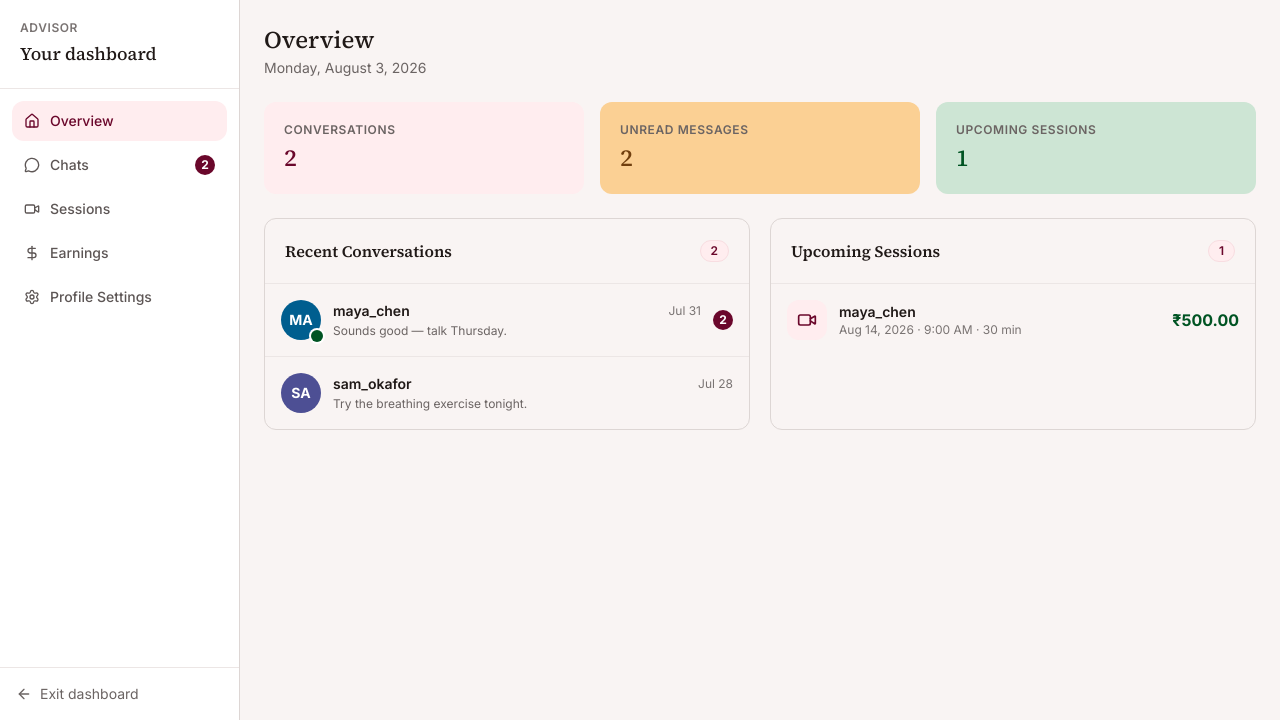
AdvisorDashboardPage › chats tab › explains an empty search result rather than showing a blank card
The image size is (1280, 720).
Click the button "Chats 2" at (120,165), box x1=12 y1=145 x2=227 y2=185
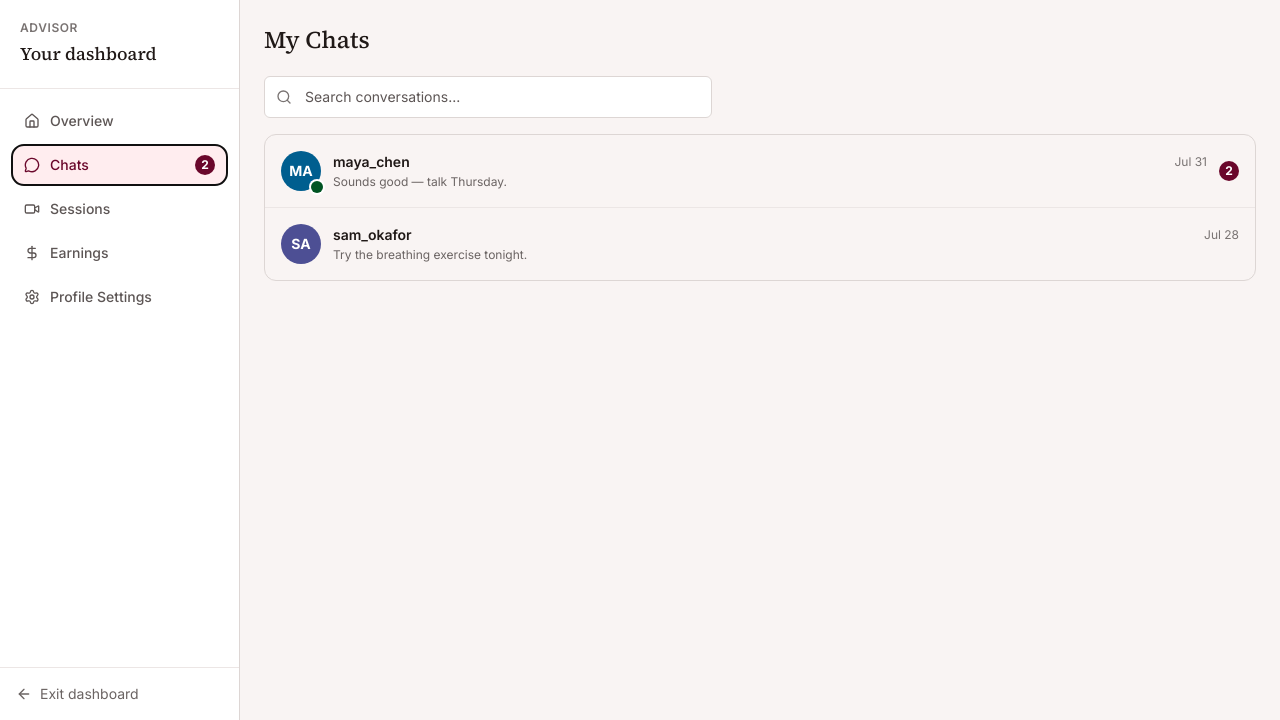
Expected: the text "maya_chen" is shown, x1=333 y1=152 x2=410 y2=172
Type "nobody-by-this-name" into the field labelled "Search conversations..." at (488,97), box x1=264 y1=76 x2=712 y2=118
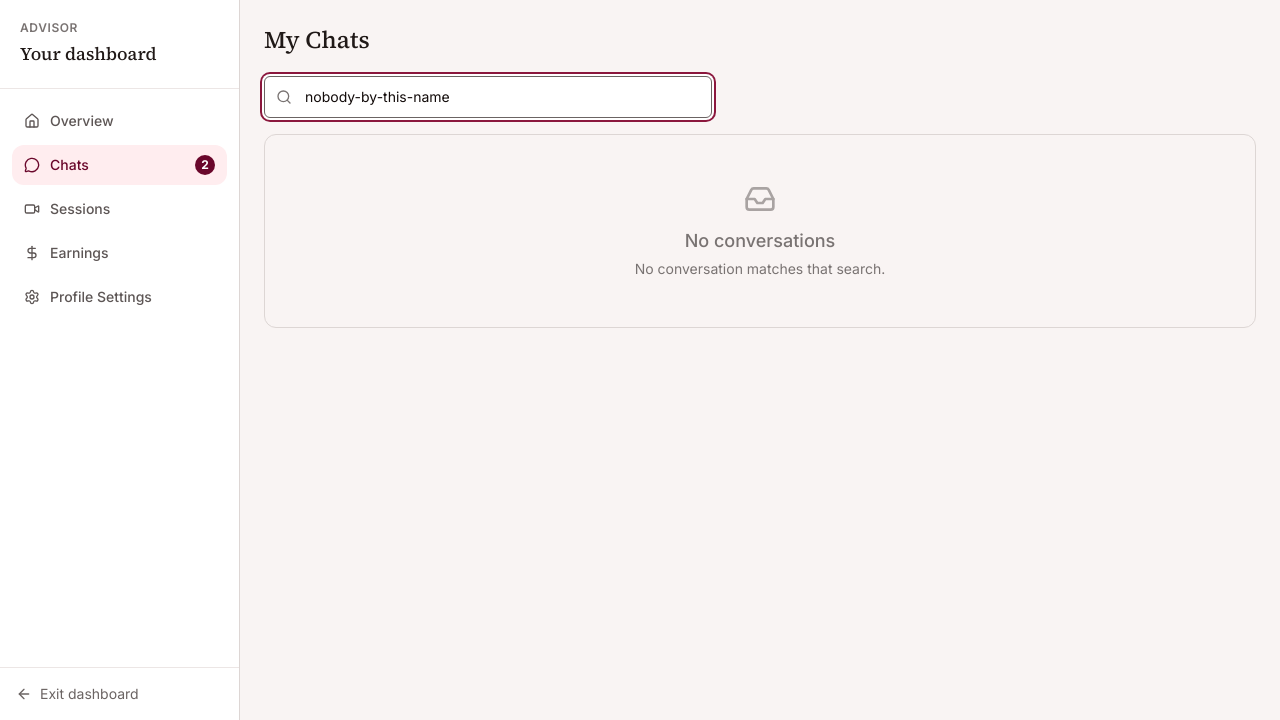
Expected: the text "No conversation matches that search." is shown, x1=635 y1=260 x2=885 y2=277
